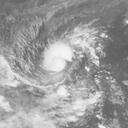cyclone: (39, 38, 75, 73)
